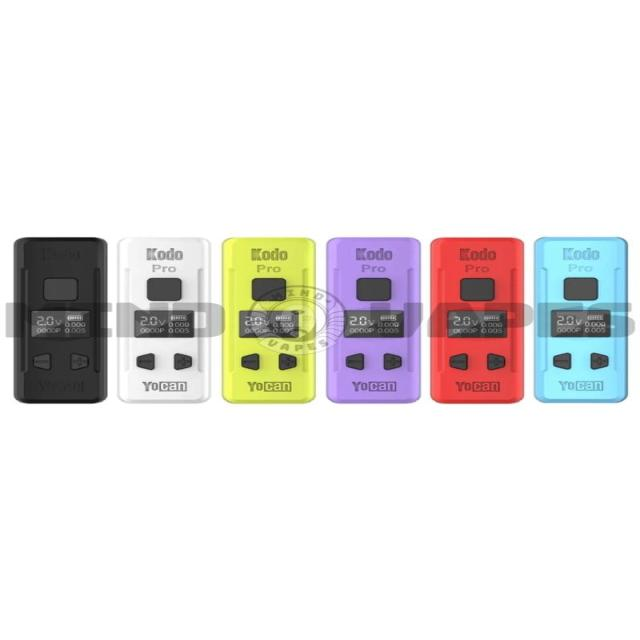Vapes: (0, 204, 640, 426)
